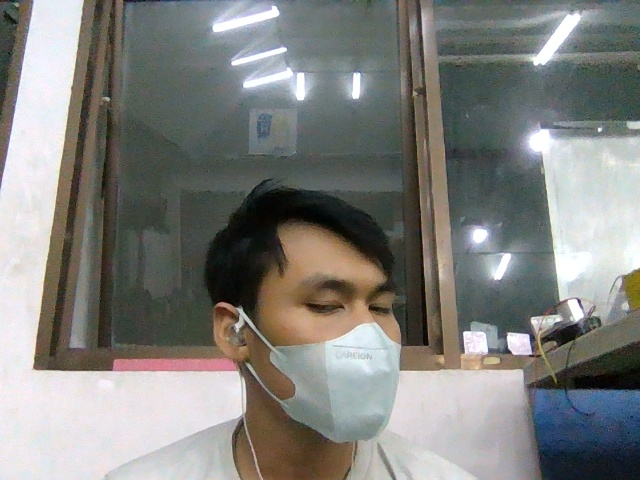mask_on: (271, 323, 399, 444)
